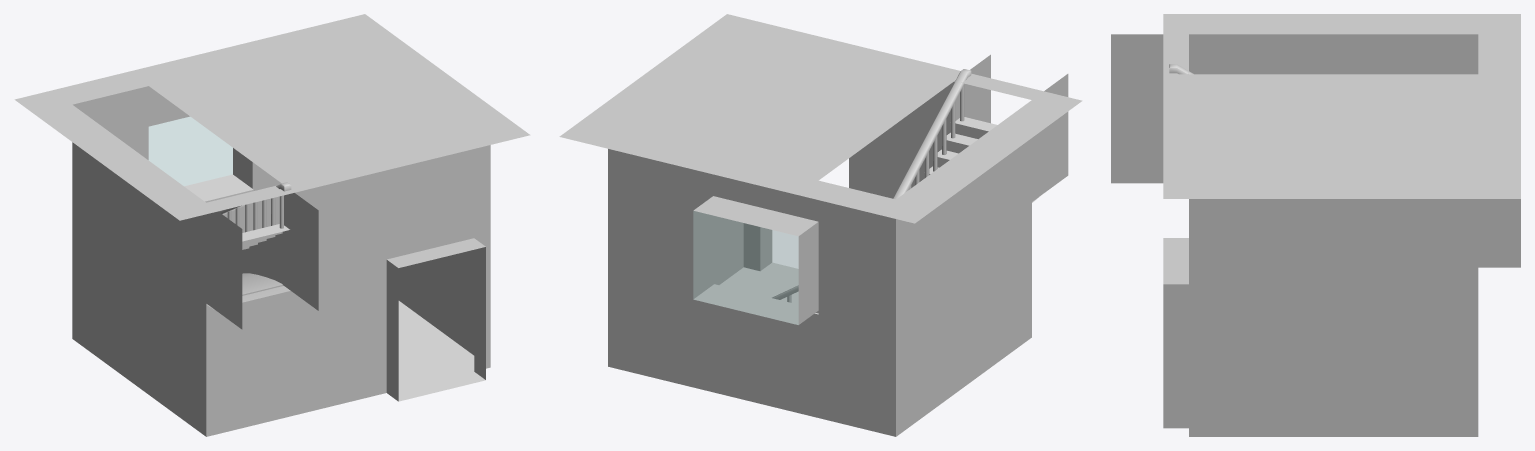
Rendered from Lomnicky_acceso_planta2.fbx.
The picture shows the model from 3 angles, left to right: view 1: azimuth 30°, elevation 25°; view 2: azimuth 150°, elevation 25°; view 3: azimuth 270°, elevation 25°; orthographic projection. The views are drawn at different scales.
Parts seen in each view (by area): view 1: Planta-1_sala_acceso_a_planta-2, Planta-1_sala_acceso_a_planta-2techo, Escalera_1-2_con_arco; view 2: Planta-1_sala_acceso_a_planta-2, Planta-1_sala_acceso_a_planta-2techo, Escalera_1-2_con_arco; view 3: Planta-1_sala_acceso_a_planta-2, Planta-1_sala_acceso_a_planta-2techo.
Part boxes in pixels (x1,y1,x2,y2): Planta-1_sala_acceso_a_planta-2: (14, 14, 530, 436); Planta-1_sala_acceso_a_planta-2techo: (149, 35, 489, 183); Escalera_1-2_con_arco: (207, 182, 291, 309); Planta-1_sala_acceso_a_planta-2: (559, 14, 1082, 436); Planta-1_sala_acceso_a_planta-2techo: (608, 30, 953, 180); Escalera_1-2_con_arco: (772, 69, 1038, 302); Planta-1_sala_acceso_a_planta-2: (1111, 14, 1520, 436); Planta-1_sala_acceso_a_planta-2techo: (1189, 74, 1478, 183).
Bounding box in the file's own units: 801 × 525 × 750.
